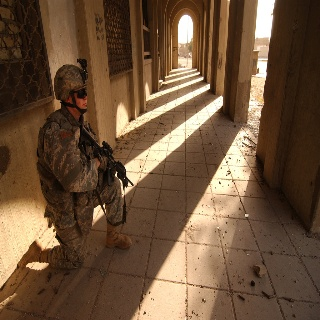rifle: (77, 123, 136, 192)
